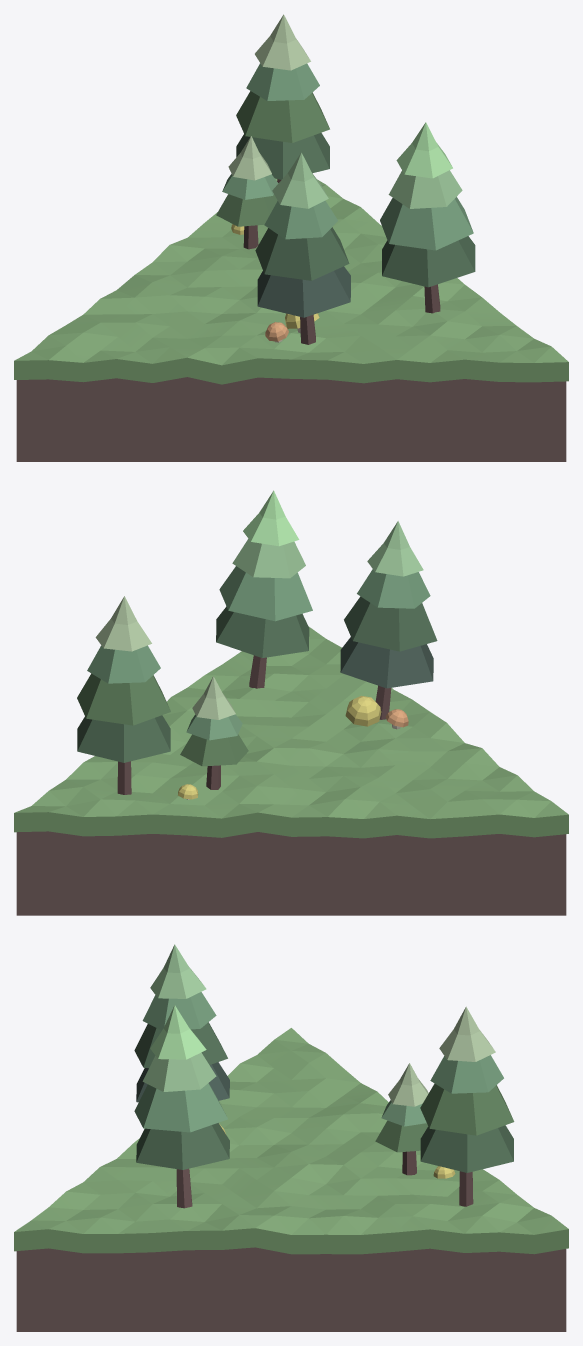
Rendered from TILE_01_03_Forest.fbx.
3 renders of one model, top to bottom at view 1: azimuth 30°, elevation 25°; view 2: azimuth 150°, elevation 25°; view 3: azimuth 270°, elevation 25°, orthographic.
Visible parts, largest first — view 1: TILESURFACE7, TILE, pCylinder8 3, pCylinder8 2, pCylinder8, pCylinder7 3, pCylinder7 2, pCylinder7, pCylinder9 1, pCylinder9, pCylinder9 2, pCylinder10 3 (+5 smaller); view 2: TILESURFACE7, TILE, pCylinder7 3, pCylinder7 2, pCylinder8 2, pCylinder8 3, pCylinder7, pCylinder8, pCylinder9 1, pCylinder9 2, pCylinder9, pCylinder10 (+6 smaller); view 3: TILESURFACE7, TILE, pCylinder8, pCylinder7, pCylinder7 2, pCylinder8 2, pCylinder9, pCylinder9 1, pCylinder10, pCylinder9 2, pCylinder10 2, pCylinder10 3 (+7 smaller).
Boxes of the visible parts, bbox=[...] form: TILESURFACE7: bbox=[14, 178, 568, 384]; TILE: bbox=[16, 377, 566, 461]; pCylinder8 3: bbox=[255, 227, 349, 280]; pCylinder8 2: bbox=[380, 197, 473, 250]; pCylinder8: bbox=[236, 91, 329, 142]; pCylinder7 3: bbox=[257, 266, 350, 317]; pCylinder7 2: bbox=[382, 236, 475, 287]; pCylinder7: bbox=[236, 132, 329, 179]; pCylinder9 1: bbox=[388, 170, 462, 208]; pCylinder9: bbox=[246, 63, 319, 100]; pCylinder9 2: bbox=[264, 200, 337, 239]; pCylinder10 3: bbox=[272, 152, 328, 208]; TILESURFACE7: bbox=[14, 626, 568, 838]; TILE: bbox=[16, 831, 566, 915]; pCylinder7 3: bbox=[340, 637, 433, 688]; pCylinder7 2: bbox=[216, 606, 309, 657]; pCylinder8 2: bbox=[219, 566, 312, 621]; pCylinder8 3: bbox=[344, 596, 437, 651]; pCylinder7: bbox=[77, 715, 170, 762]; pCylinder8: bbox=[77, 673, 170, 725]; pCylinder9 1: bbox=[232, 539, 305, 578]; pCylinder9 2: bbox=[357, 569, 430, 608]; pCylinder9: bbox=[87, 645, 160, 683]; pCylinder10: bbox=[95, 596, 151, 651]; TILESURFACE7: bbox=[14, 1028, 568, 1254]; TILE: bbox=[16, 1247, 566, 1331]; pCylinder8: bbox=[420, 1083, 514, 1135]; pCylinder7: bbox=[420, 1125, 513, 1172]; pCylinder7 2: bbox=[136, 1123, 229, 1169]; pCylinder8 2: bbox=[134, 1083, 227, 1132]; pCylinder9: bbox=[430, 1055, 503, 1093]; pCylinder9 1: bbox=[142, 1052, 216, 1091]; pCylinder10: bbox=[439, 1006, 495, 1061]; pCylinder9 2: bbox=[142, 992, 216, 1030]; pCylinder10 2: bbox=[150, 1005, 206, 1059]; pCylinder10 3: bbox=[150, 944, 206, 998].
Bounding box in the file's own units: 151 × 103 × 175.
